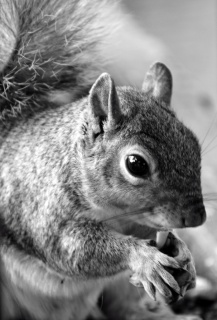Squirrel: (0, 0, 217, 317)
